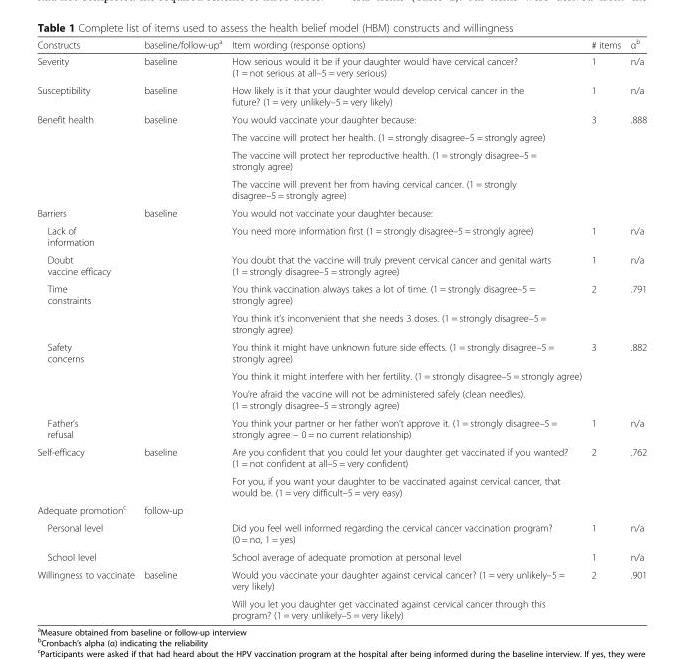table: (36, 37, 646, 620)
table column: (226, 37, 585, 620), (36, 37, 138, 620), (138, 37, 226, 620), (585, 37, 625, 620), (625, 37, 646, 620)
table column header: (36, 37, 646, 52)
table row: (36, 52, 646, 81), (36, 81, 646, 110), (36, 145, 646, 174), (36, 174, 646, 203), (36, 221, 646, 250), (36, 250, 646, 279), (36, 279, 646, 308), (36, 308, 646, 337), (36, 337, 646, 366), (36, 384, 646, 413), (36, 413, 646, 442), (36, 442, 646, 471), (36, 471, 646, 500), (36, 518, 646, 547), (36, 565, 646, 594), (36, 594, 646, 620), (36, 127, 646, 145), (36, 203, 646, 221), (36, 366, 646, 384), (36, 500, 646, 518), (36, 547, 646, 565), (36, 110, 646, 127), (36, 37, 646, 52)
table spanning cell: (138, 203, 226, 442), (36, 500, 646, 518), (36, 110, 138, 203), (138, 110, 226, 203), (36, 337, 138, 413), (36, 279, 138, 337), (36, 442, 138, 500), (138, 500, 226, 565), (36, 565, 138, 620), (138, 442, 226, 500), (138, 565, 226, 620)
